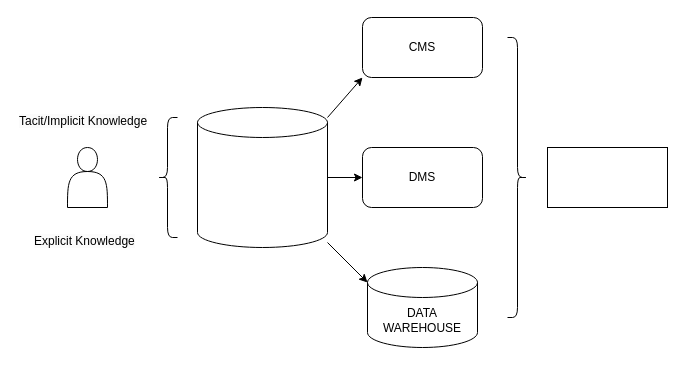
The diagram is 685 pixels wide and 365 high, and some of its shapes have lost their labels. The centre of each missing label's shape, as x and y in pixels:
KMS : Docuwiki: the point at 607,177
KNOWLEDGE BASE: the point at 262,177
